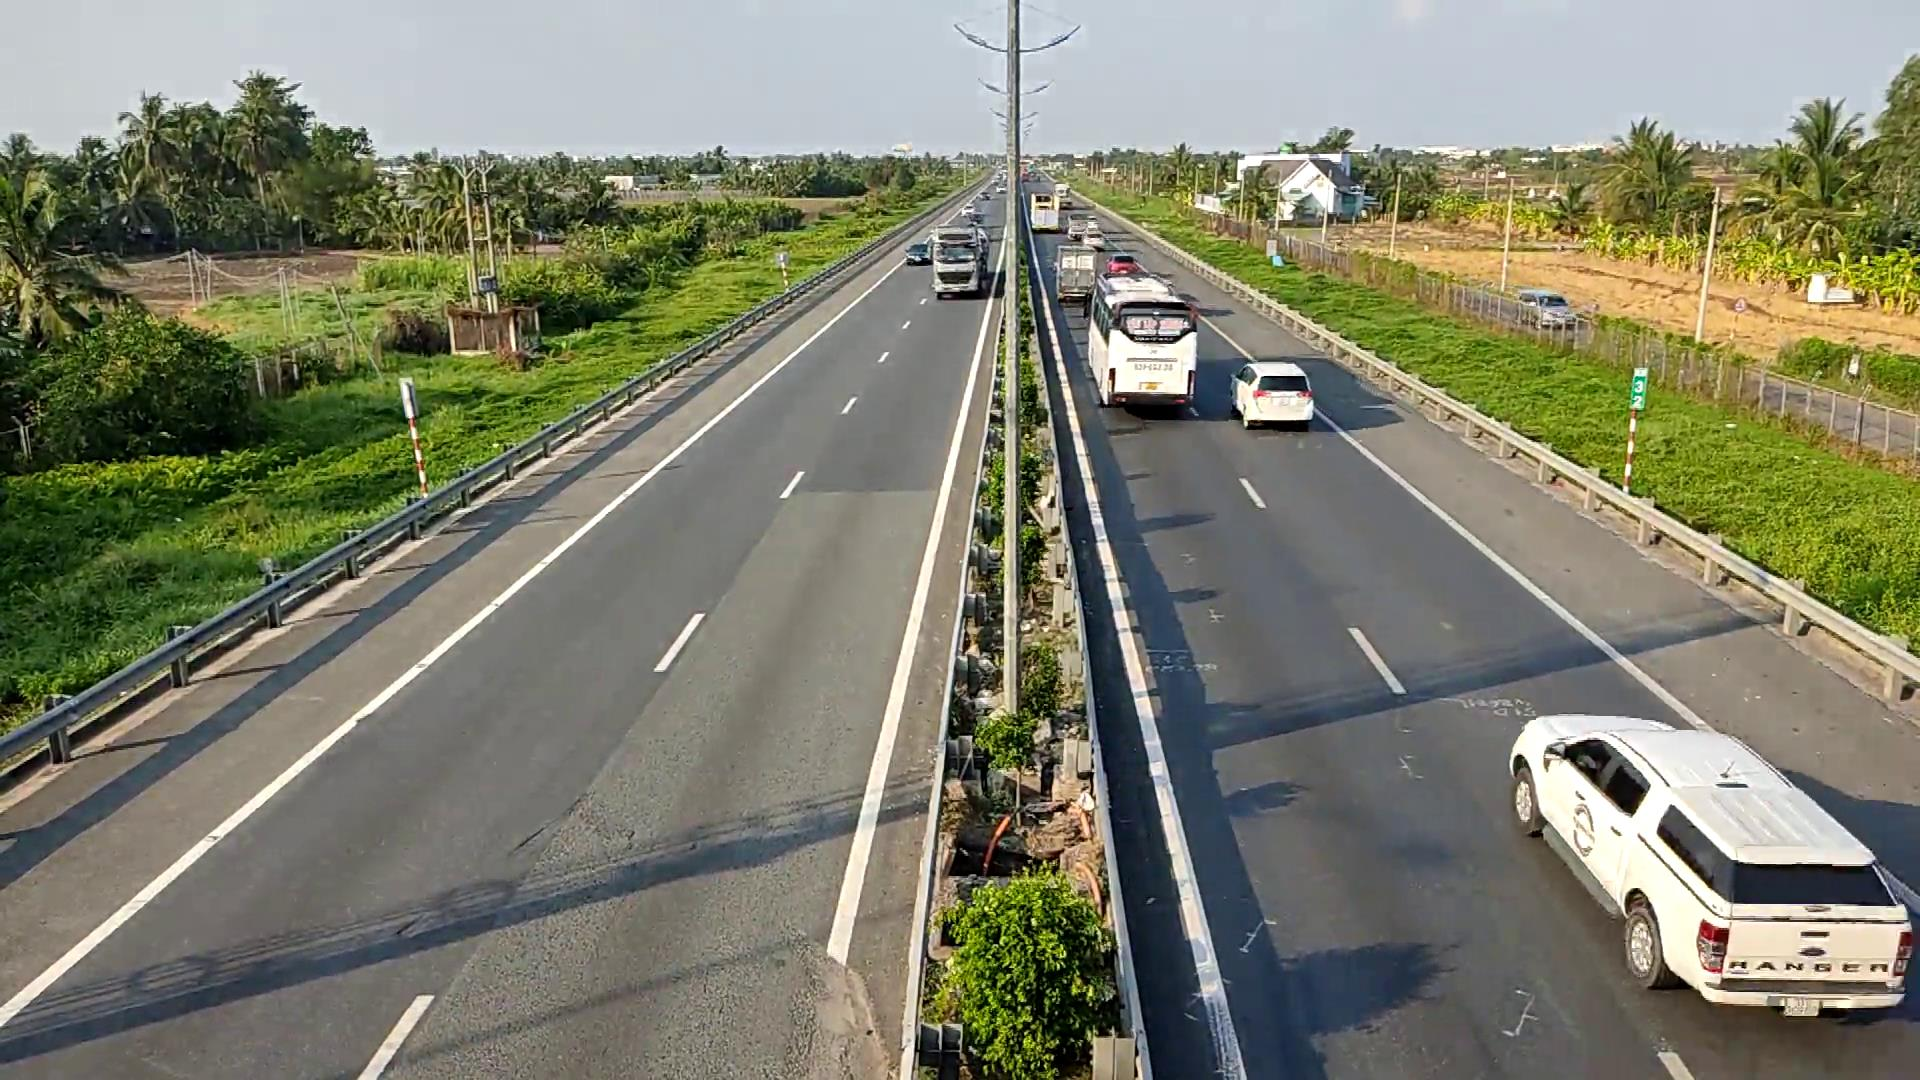bus: (1088, 274, 1200, 411)
car: (1505, 715, 1913, 1014), (1228, 356, 1313, 425)
